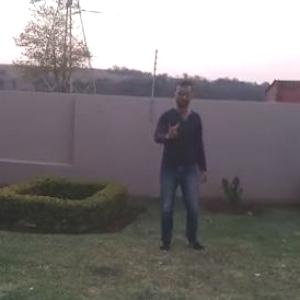takeoff-hand: (159, 115, 186, 143)
